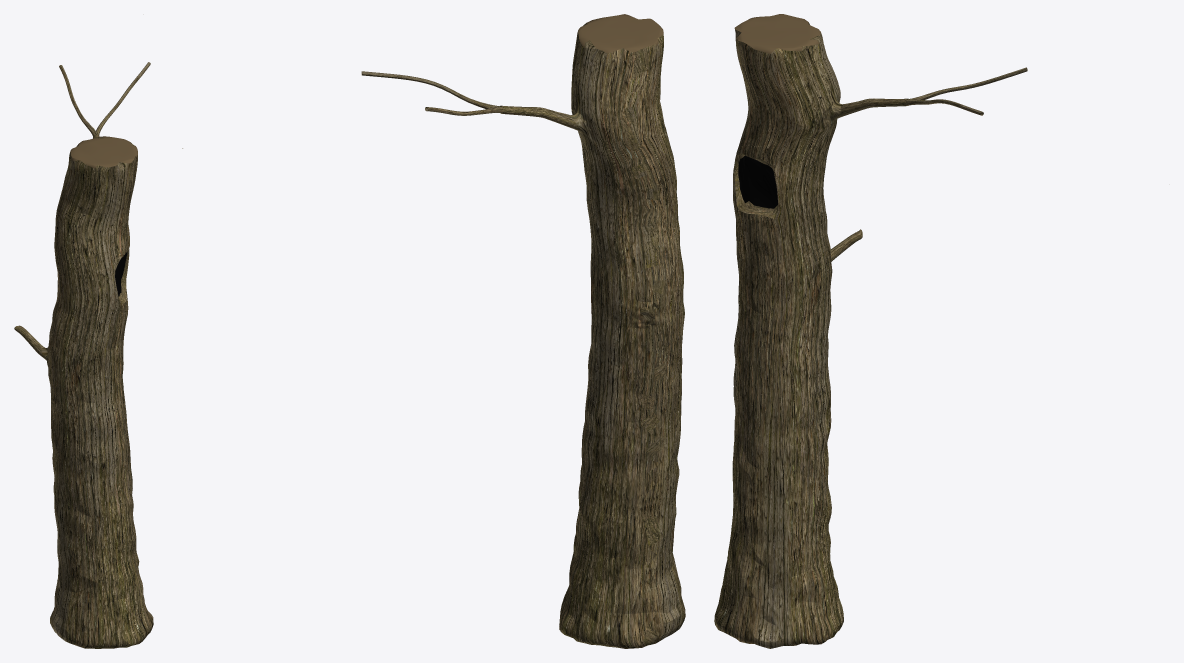
Rendered from Churka2 (2).fbx.
3 renders of one model, left to right at view 1: azimuth 30°, elevation 25°; view 2: azimuth 150°, elevation 25°; view 3: azimuth 270°, elevation 25°, orthographic. The views are drawn at different scales.
Parts seen in each view (by area): view 1: Ch2; view 2: Ch2; view 3: Ch2.
Part boxes in pixels (x1=…): Ch2: x1=14, y1=62, x2=153, y2=648; Ch2: x1=182, y1=14, x2=685, y2=648; Ch2: x1=714, y1=14, x2=1027, y2=648.
Bounding box in the file's own units: 176 × 320 × 221.
